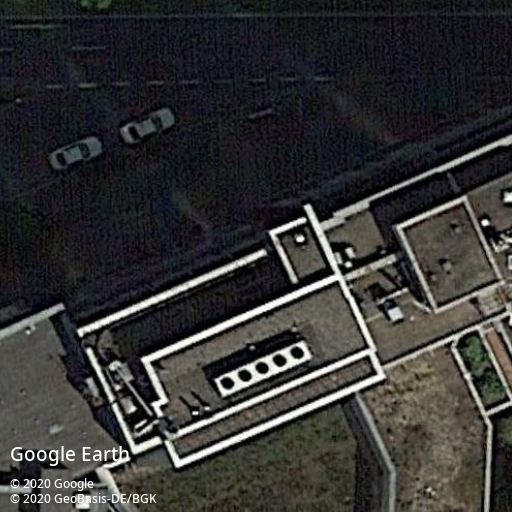Chiller: (213, 339, 313, 397)
